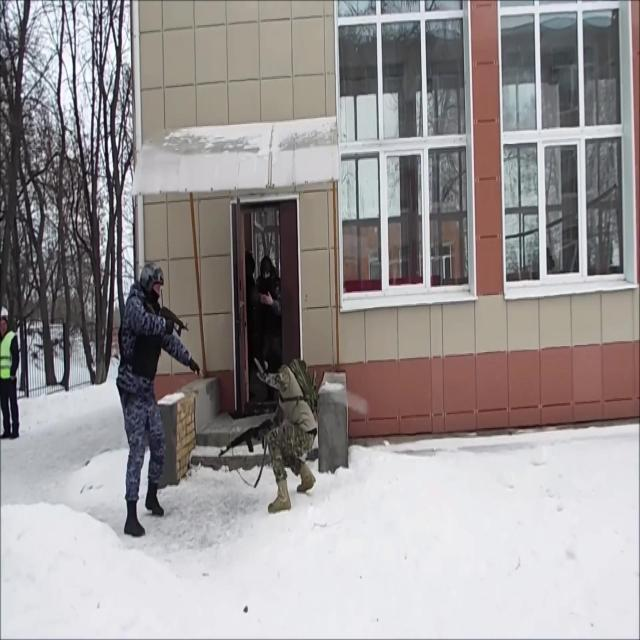pistol: (218, 414, 278, 462), (146, 299, 191, 341), (256, 278, 276, 310)
